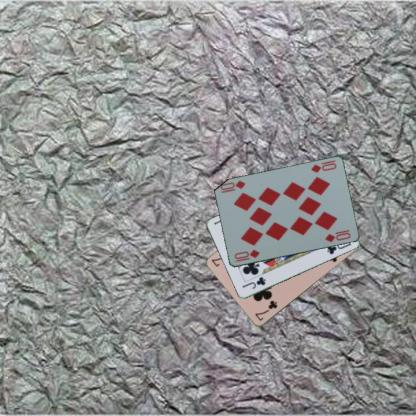10d: (232, 247, 260, 264), (308, 160, 337, 174)
7c: (252, 298, 278, 323)
Jc: (240, 274, 267, 290)
